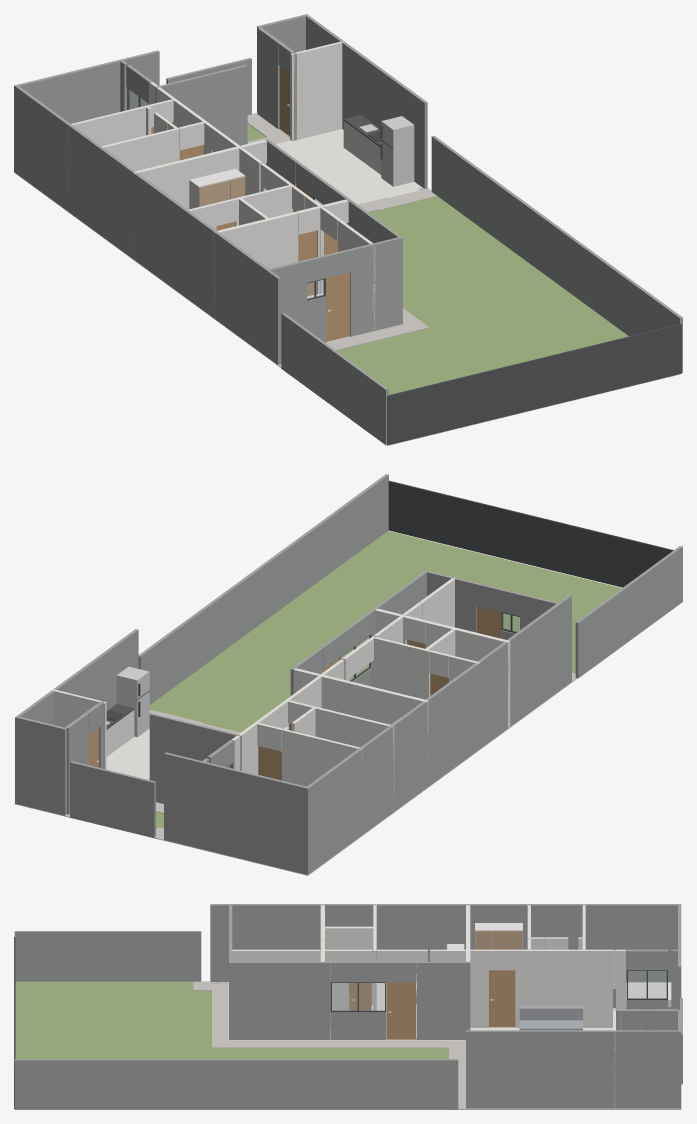
The model's file is casa.glb.
The picture shows the model from 3 angles, top to bottom: view 1: azimuth 30°, elevation 25°; view 2: azimuth 150°, elevation 25°; view 3: azimuth 270°, elevation 25°; orthographic projection. The views are drawn at different scales.
Visible parts, largest first — view 1: fachada, grama, parede, esquadria, piso, concreto, inox, armario, door11_swing__porta, madeira, door4_swing__porta, door8_swing__porta; view 2: fachada, grama, parede, esquadria, piso, inox, armario, door3_swing__porta, door11_swing__porta; view 3: fachada, grama, parede, concreto, vidro, door0_swing__porta, tecido, door10_swing__porta, piso, esquadria, madeira, enxoval (+2 smaller).
Boxes of the visible parts, box(x1,y1,x2,y2) form: fachada: box(14, 14, 682, 445); grama: box(15, 124, 680, 445); parede: box(67, 41, 375, 330); esquadria: box(127, 88, 681, 445); piso: box(14, 129, 428, 365); concreto: box(247, 112, 437, 367); inox: box(359, 116, 414, 186); armario: box(126, 121, 381, 209); door11_swing__porta: box(326, 272, 349, 341); madeira: box(199, 176, 245, 206); door4_swing__porta: box(279, 66, 289, 135); door8_swing__porta: box(298, 230, 316, 296); fachada: box(15, 474, 682, 874); grama: box(14, 531, 621, 875); parede: box(52, 578, 510, 810); esquadria: box(228, 480, 673, 768); piso: box(14, 682, 571, 875); inox: box(106, 666, 149, 737); armario: box(106, 710, 400, 756); door3_swing__porta: box(258, 746, 281, 780); door11_swing__porta: box(477, 606, 501, 638); fachada: box(14, 904, 682, 1109); grama: box(15, 981, 681, 1109); parede: box(232, 904, 625, 1108); concreto: box(193, 981, 653, 1109); vidro: box(332, 971, 666, 1010); door0_swing__porta: box(386, 982, 415, 1039); tecido: box(519, 1005, 582, 1030); door10_swing__porta: box(489, 970, 515, 1027); piso: box(210, 982, 680, 1109); esquadria: box(14, 937, 667, 1108); madeira: box(416, 931, 671, 1009); enxoval: box(416, 973, 671, 1006).
Bounding box in the file's own units: 10.1 × 2.83 × 22.07.
